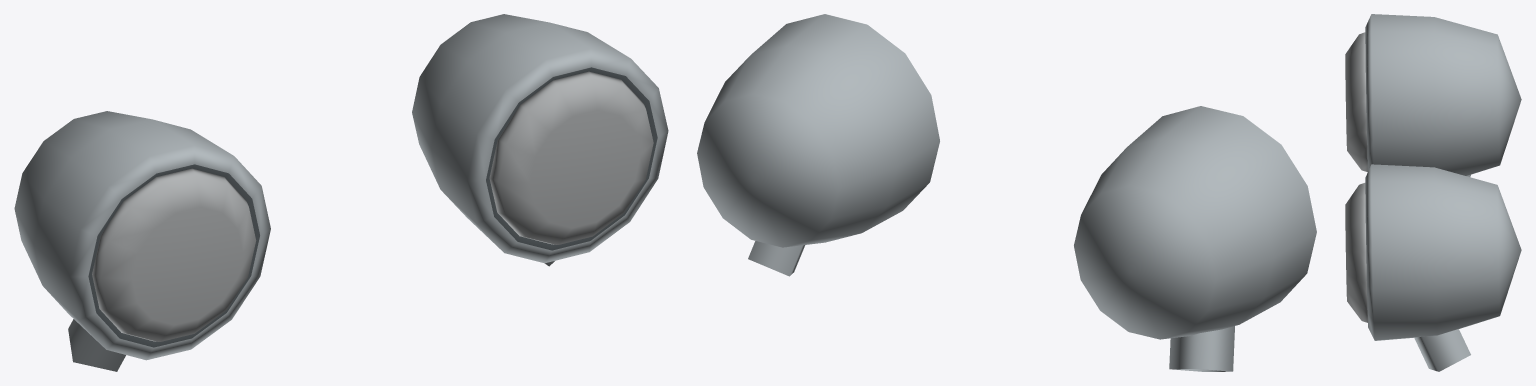
File: Car_01_FogLight.fbx
3 views of the same model, side by side, from view 1: azimuth 30°, elevation 25°; view 2: azimuth 150°, elevation 25°; view 3: azimuth 270°, elevation 25° (orthographic). The views are drawn at different scales.
Parts seen in each view (by area): view 1: Car_01_FogLight; view 2: Car_01_FogLight; view 3: Car_01_FogLight.
Boxes of the visible parts, x1,y1,x2,y2 form: Car_01_FogLight: [14, 14, 668, 371]; Car_01_FogLight: [697, 14, 1316, 371]; Car_01_FogLight: [1345, 14, 1521, 371].
Bounding box in the file's own units: 77.68 × 25.52 × 30.24.
